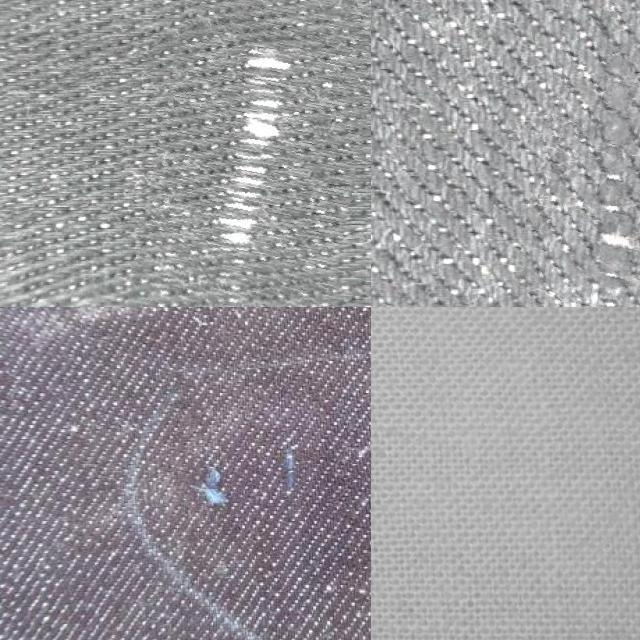Thread_other: (128, 0, 368, 307), (519, 0, 640, 307), (160, 396, 338, 555)
